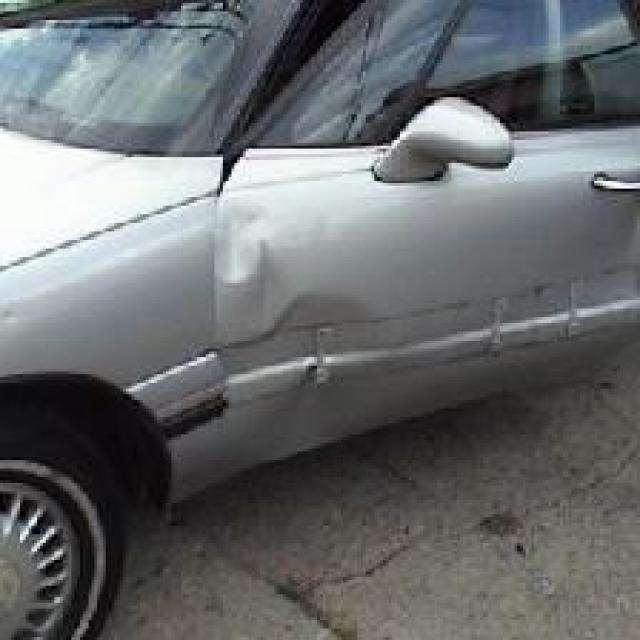damaged: (206, 188, 414, 446), (466, 268, 638, 360)
